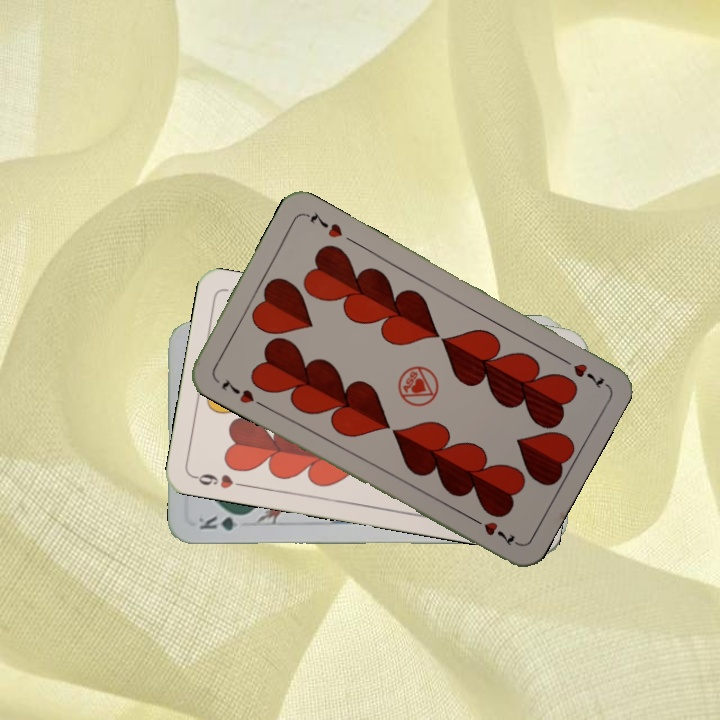GK: (194, 511, 251, 533)
H7: (555, 352, 607, 391), (217, 375, 257, 406)
H9: (189, 469, 248, 492)
